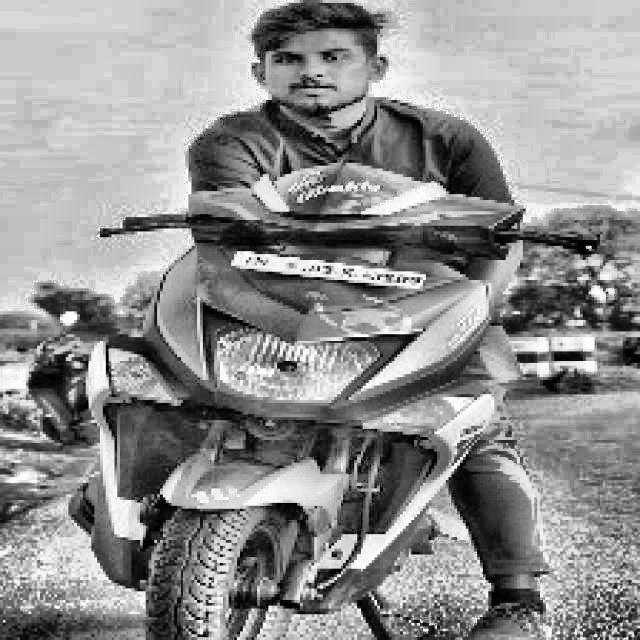motorcycle: (66, 159, 603, 640)
